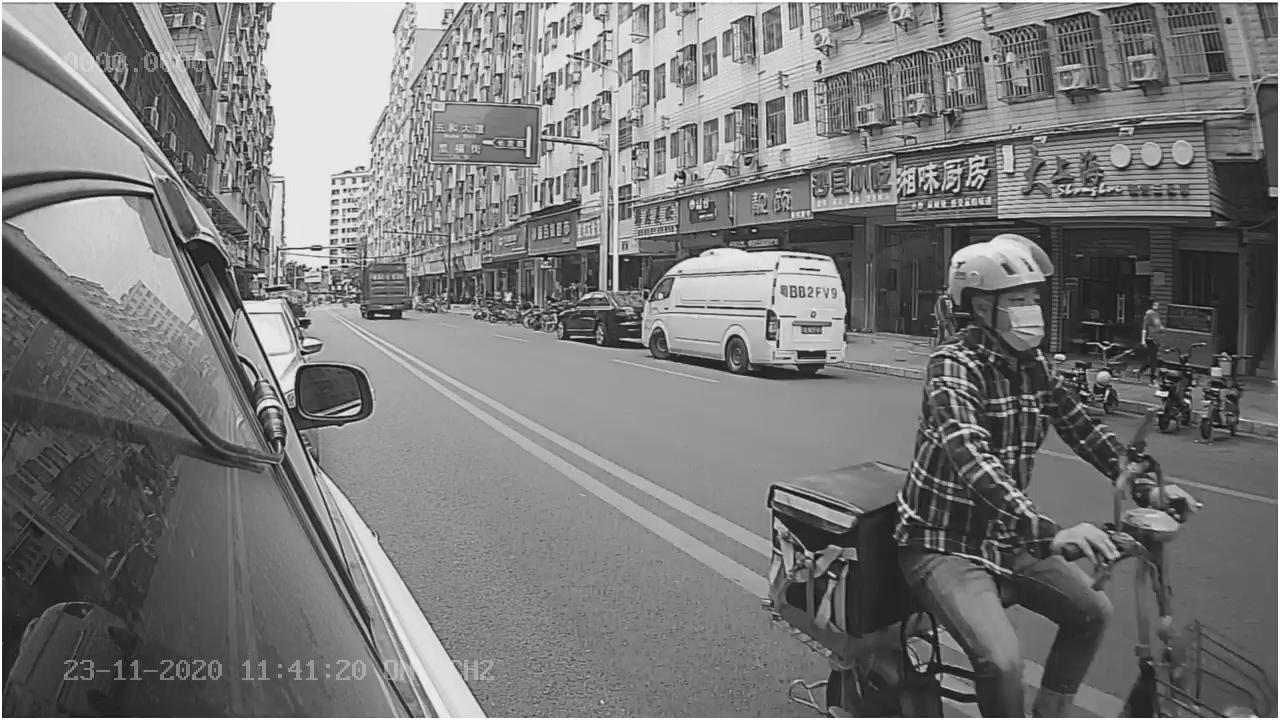person: (894, 225, 1104, 551)
